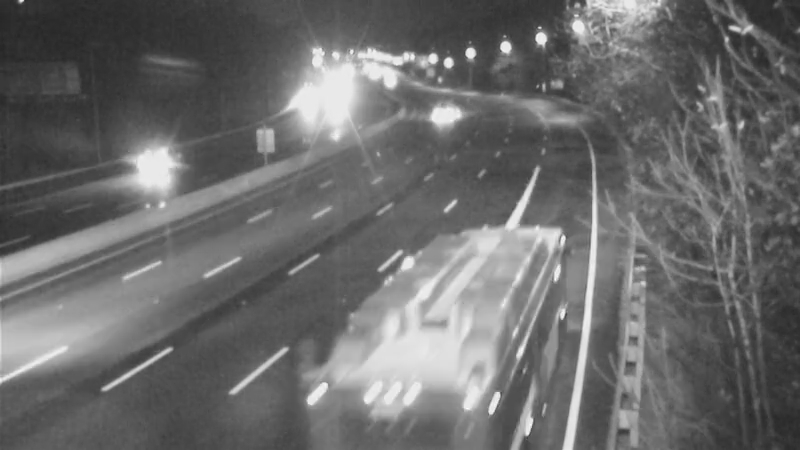vehicle: (430, 258, 540, 368), (122, 125, 202, 205), (419, 92, 469, 142)
